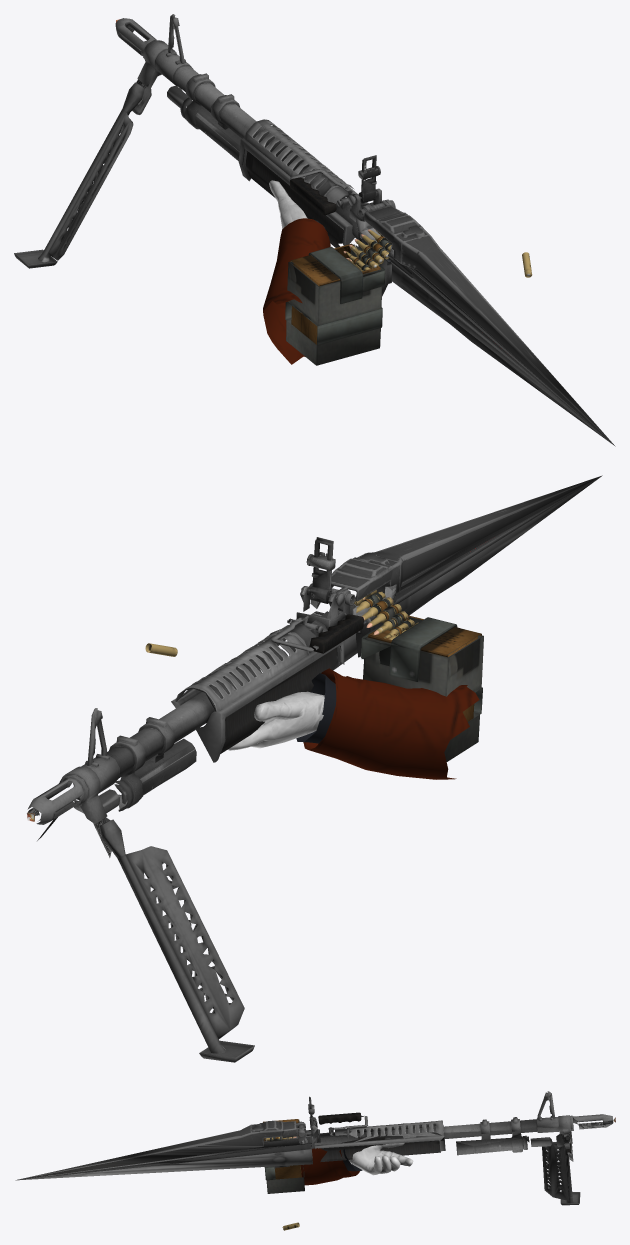
File: frame_24.obj
3 views of the same model, one above another, from view 1: azimuth 30°, elevation 25°; view 2: azimuth 150°, elevation 25°; view 3: azimuth 270°, elevation 25° (orthographic). The views are drawn at different scales.
Parts seen in each view (by area): view 1: Mesh.005, PlayerModelMerged.001_PlayerModelMerged, Mesh.001; view 2: Mesh.005, PlayerModelMerged.001_PlayerModelMerged, Mesh.001; view 3: Mesh.005, PlayerModelMerged.001_PlayerModelMerged.
Part boxes in pixels (bbox=[...]): Mesh.005: bbox=[14, 14, 615, 446]; PlayerModelMerged.001_PlayerModelMerged: bbox=[263, 180, 330, 364]; Mesh.001: bbox=[343, 229, 391, 270]; Mesh.005: bbox=[27, 475, 602, 1062]; PlayerModelMerged.001_PlayerModelMerged: bbox=[228, 668, 479, 779]; Mesh.001: bbox=[355, 591, 414, 638]; Mesh.005: bbox=[15, 1091, 613, 1205]; PlayerModelMerged.001_PlayerModelMerged: bbox=[300, 1143, 413, 1185].
Bounding box in the file's own units: 0.8108 × 0.6134 × 2.27.
